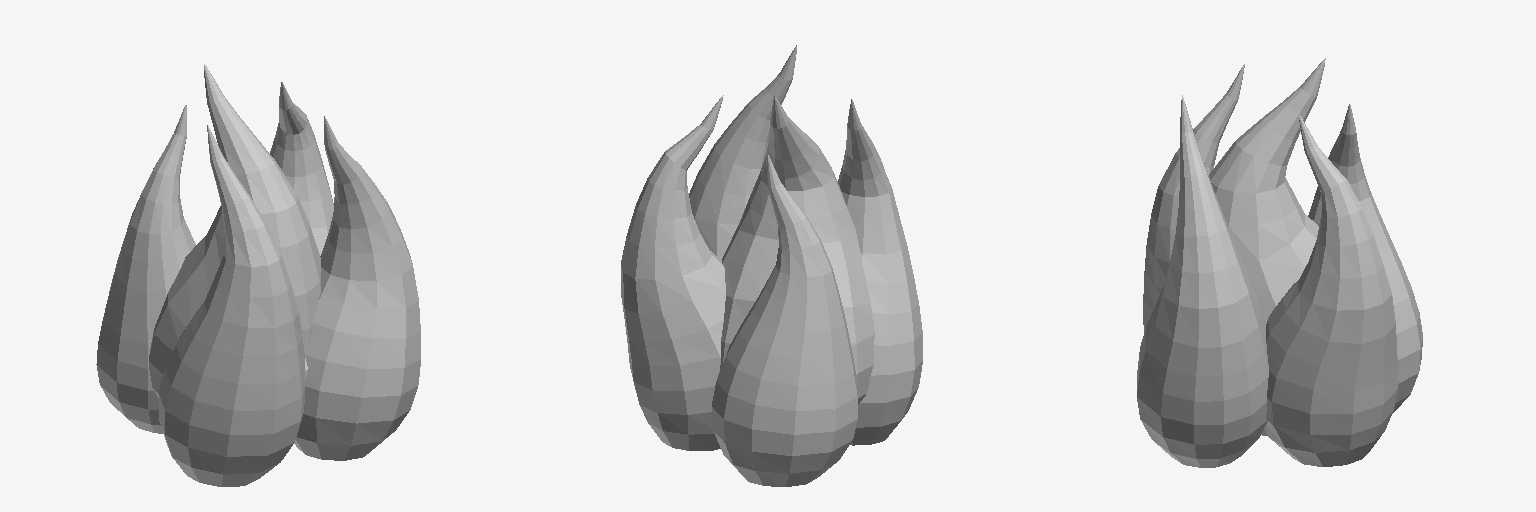
File: fire_000050.obj
3 renders of one model, left to right at view 1: azimuth 30°, elevation 25°; view 2: azimuth 150°, elevation 25°; view 3: azimuth 270°, elevation 25°, orthographic.
Parts seen in each view (by area): view 1: flame_NurbsPath.015; view 2: flame_NurbsPath.015; view 3: flame_NurbsPath.015.
Part boxes in pixels (x1,y1,x2,y2): flame_NurbsPath.015: (96, 64, 420, 486); flame_NurbsPath.015: (621, 45, 922, 486); flame_NurbsPath.015: (1137, 58, 1422, 467).
Size of the model in its own units: 0.7678 by 1.13 by 0.8018.